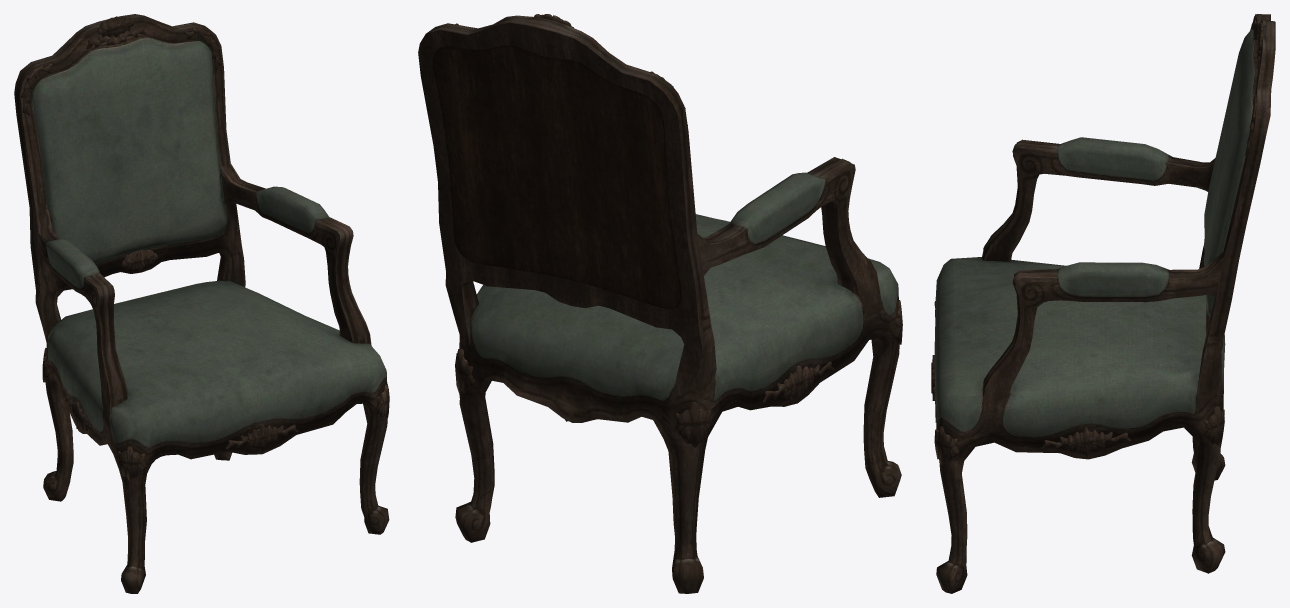
Rendered from GreenChair_01.glb.
The picture shows the model from 3 angles, left to right: view 1: azimuth 30°, elevation 25°; view 2: azimuth 150°, elevation 25°; view 3: azimuth 270°, elevation 25°; orthographic projection. The views are drawn at different scales.
Parts seen in each view (by area): view 1: GreenChair_01; view 2: GreenChair_01; view 3: GreenChair_01.
Boxes of the visible parts, x1,y1,x2,y2 form: GreenChair_01: (14,14,389,593); GreenChair_01: (418,14,902,593); GreenChair_01: (931,14,1275,593).
Bounding box in the file's own units: 0.6732 × 1.06 × 0.6644.
Materials: 1 (1 with a texture image).
